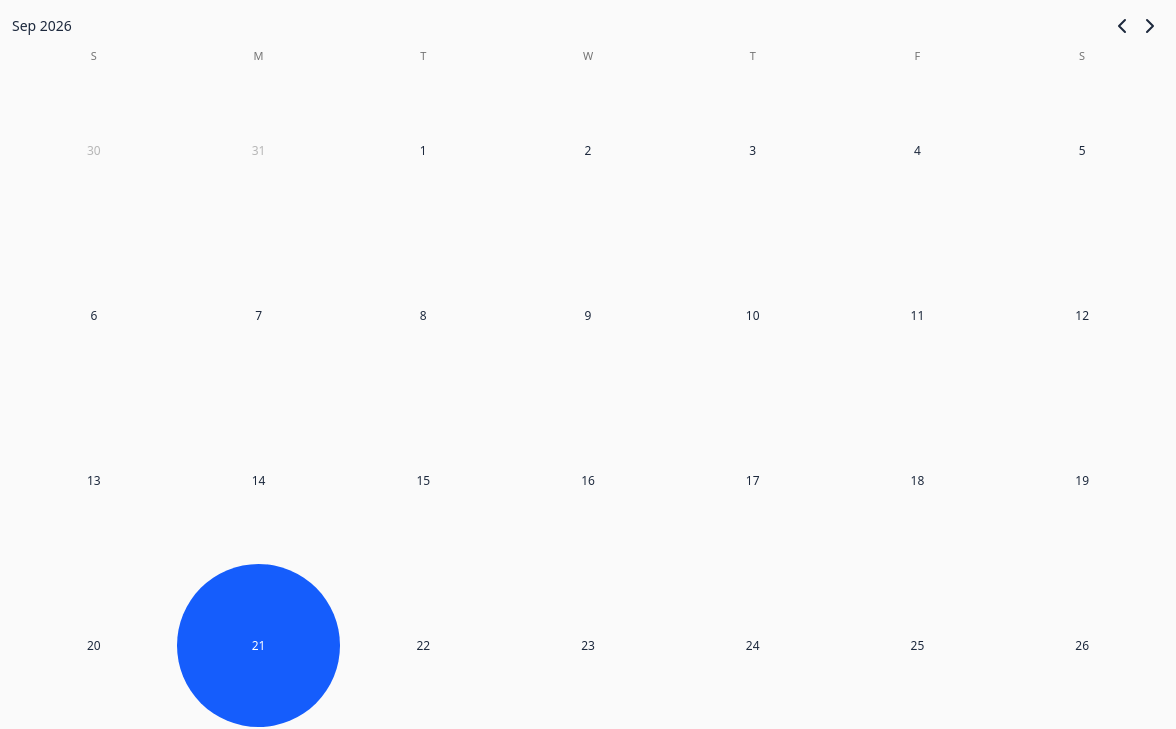
Test case: browsing is independent of the selection › pages backwards too
Click the button named "previous month". click: (1122, 26)
box: [1108,12,1136,40]
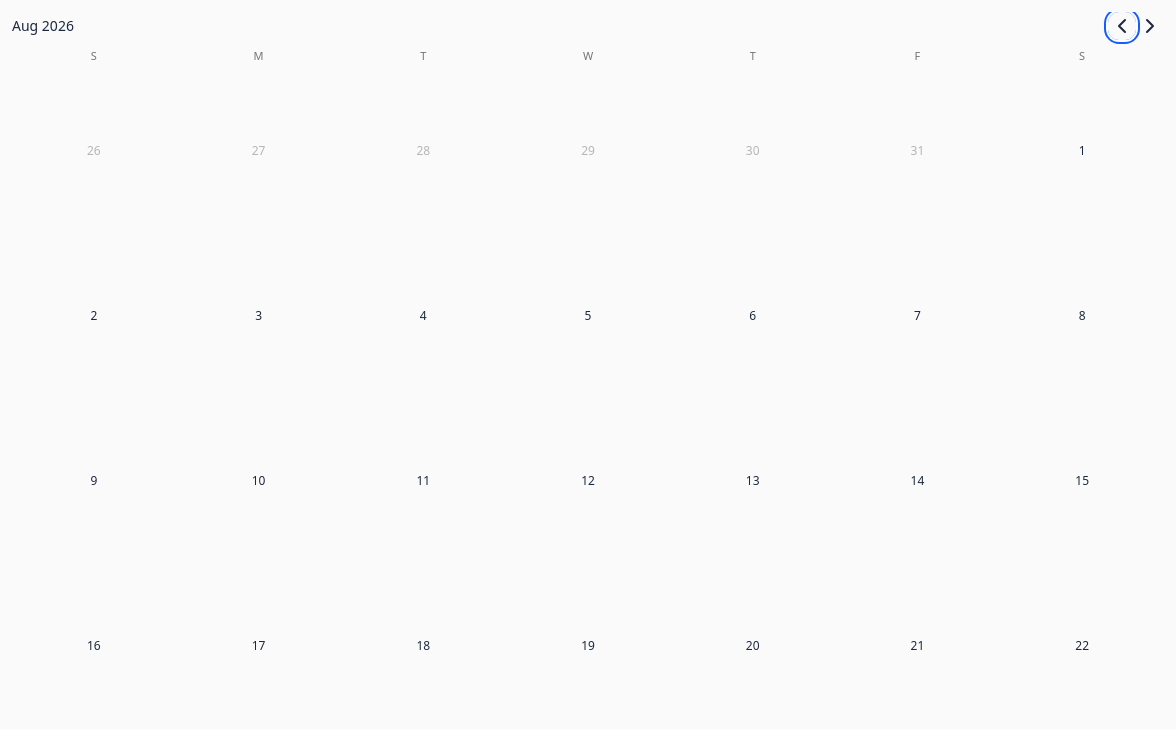
Expected: the text "Aug 2026" is shown, [12,16,74,36]
